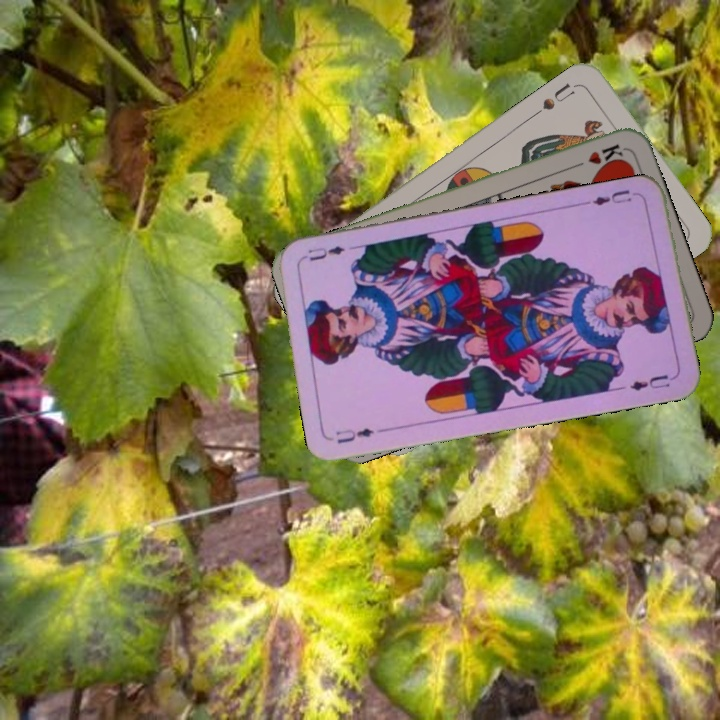EU: (589, 185, 634, 208), (332, 424, 377, 446)
HK: (568, 140, 626, 171)
SU: (538, 79, 583, 113)
